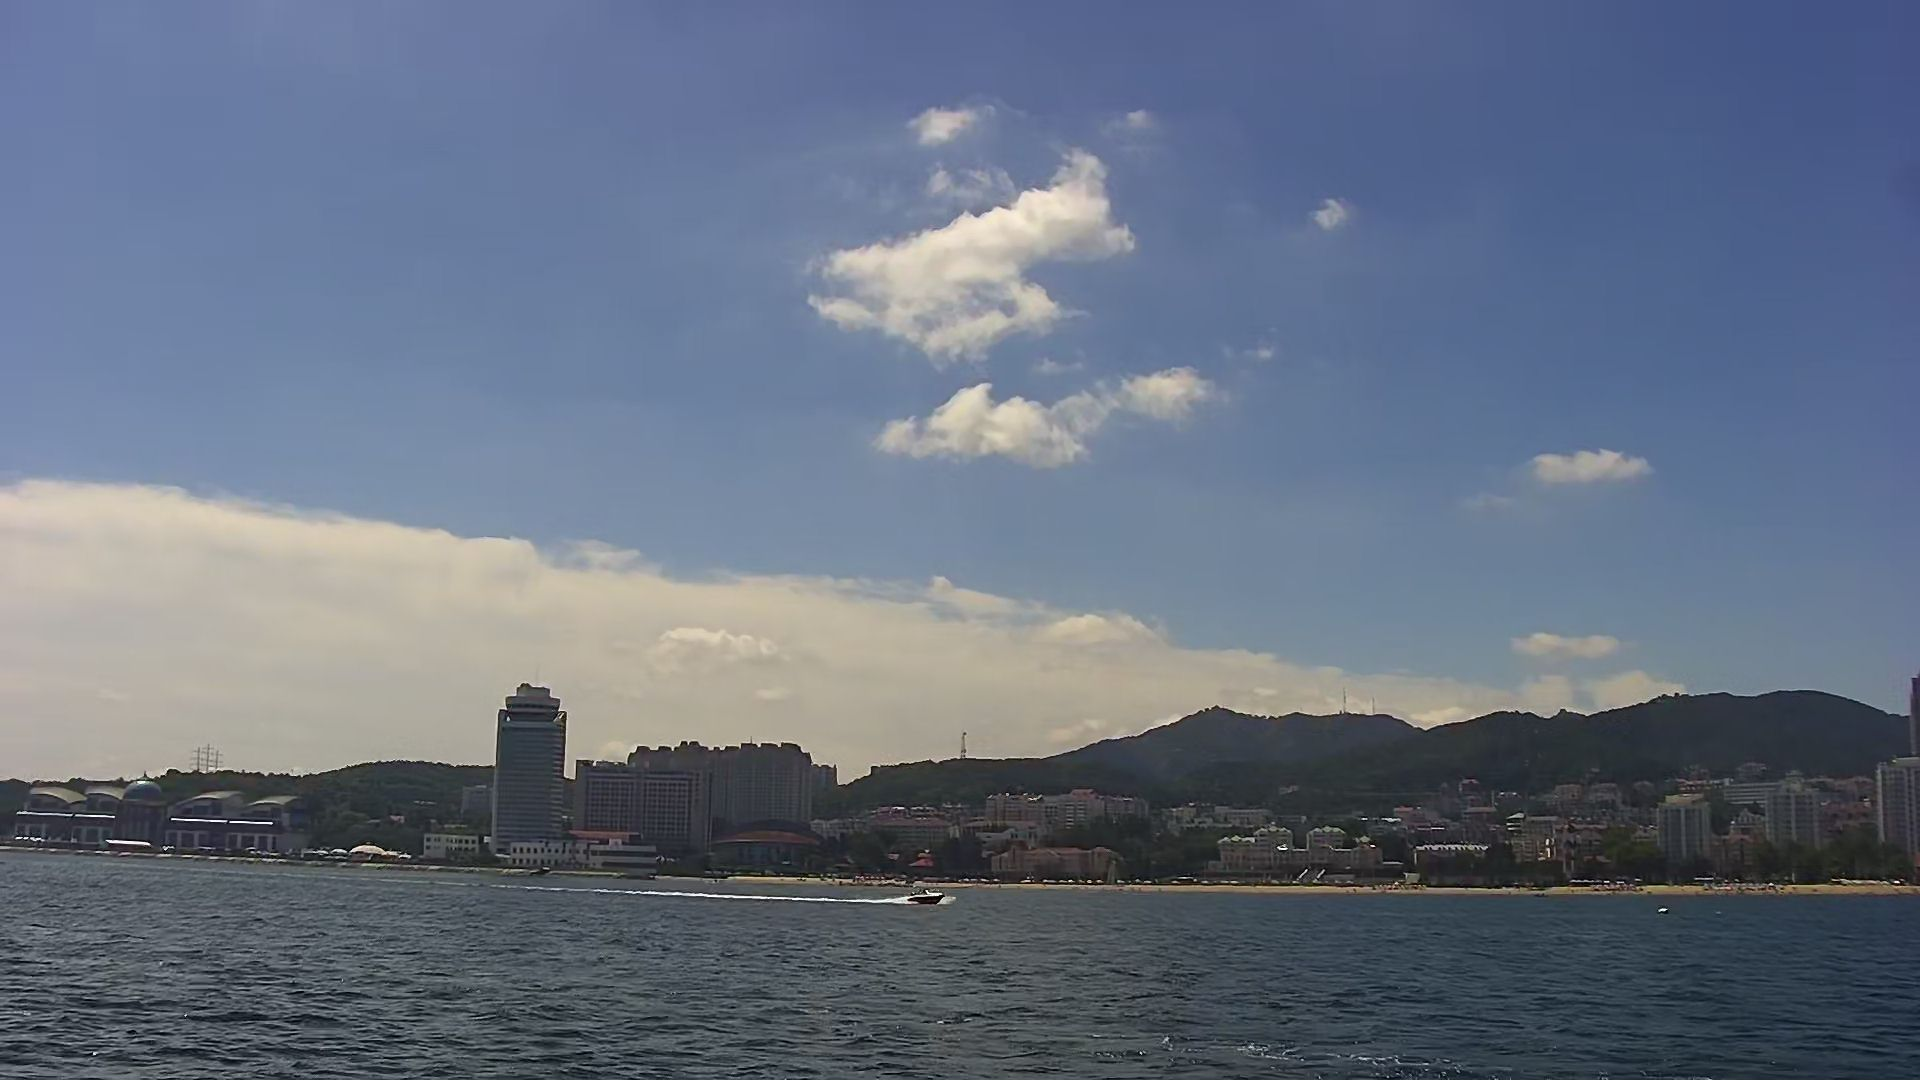boat: (902, 885, 952, 911)
